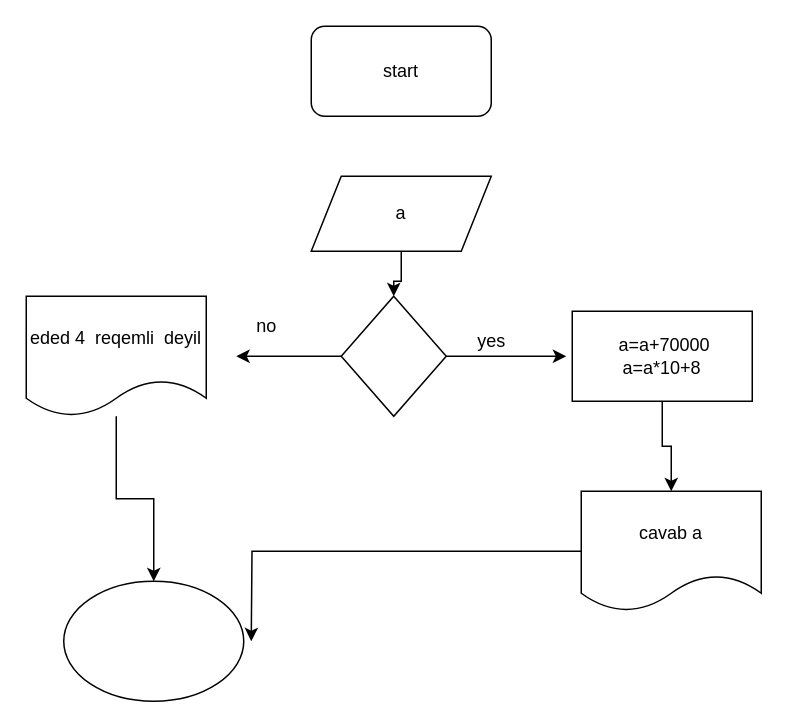
The diagram is 788 pixels wide and 728 high, and some of its shapes have lost their labels. Here are the shapes that lost their labels. From the top down, the centre of each, then its label:
At pixel 393 355: "a>=1000 a<10000".
At pixel 153 640: "end".
